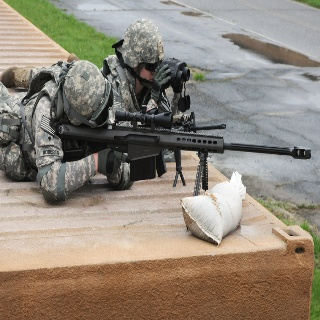rifle: (53, 109, 314, 194)
